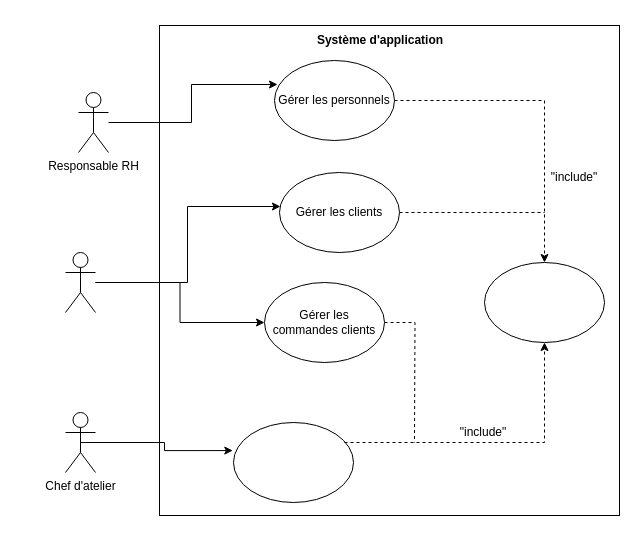
Image size: 637x533. Some labels were removed from this diagram. The centre of each missing label's shape, as x and y in pixels:
"Assistante commerciale" belongs at point 80,282.
"Gérer les machines" belongs at point 293,462.
"S'authentifier" belongs at point 544,302.
